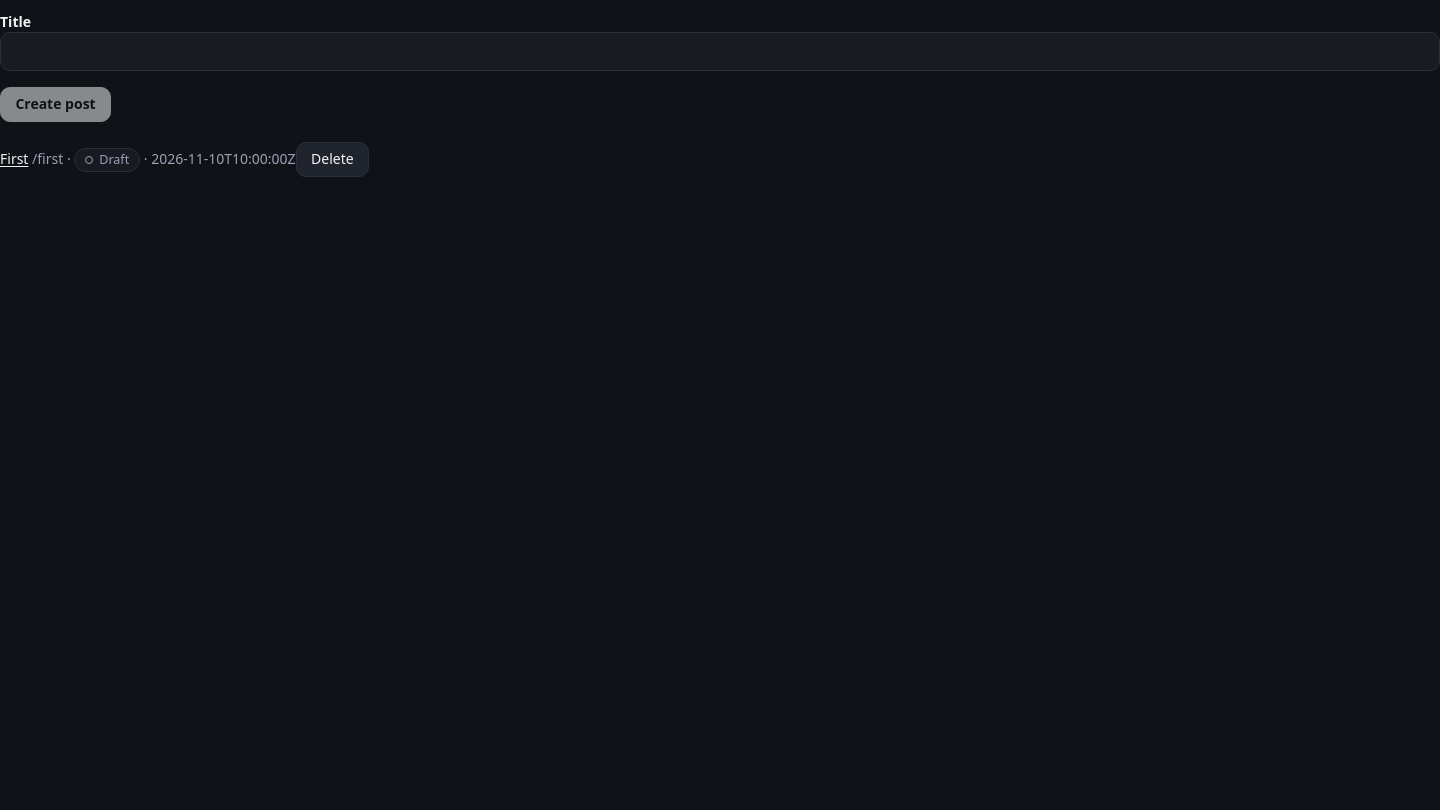
Test: Delete asks in a dialog, deletes a draft and removes its row
Click the button with aria-label "Delete First": (332,159) [296,142,369,177]
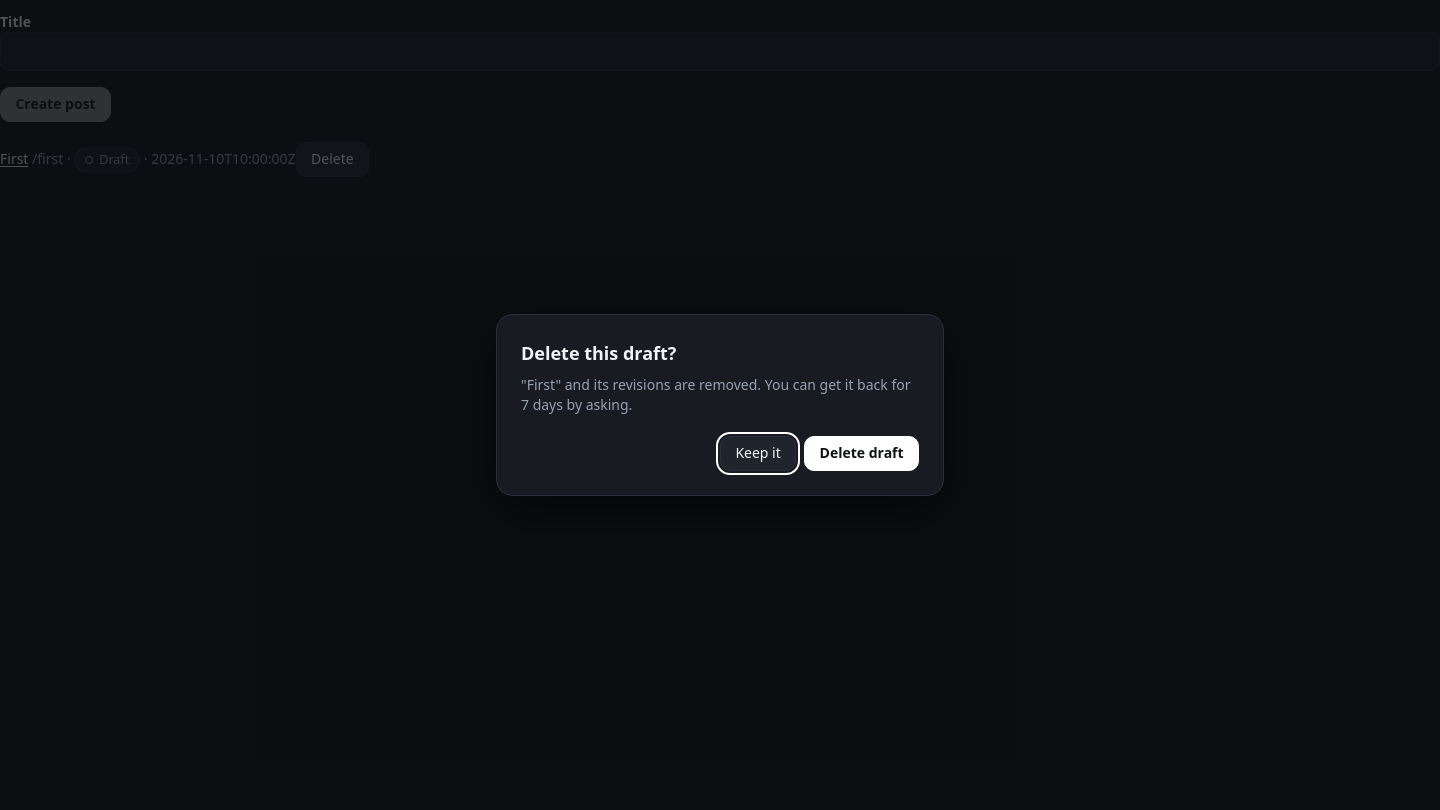
Check: the dialog "Delete this draft?" shows "\"First\" and its revisions are removed. You can get it back for 7 days by asking.", box [521,375,910,414]
Click the button "Delete draft": (862,453) [804,436,919,471]
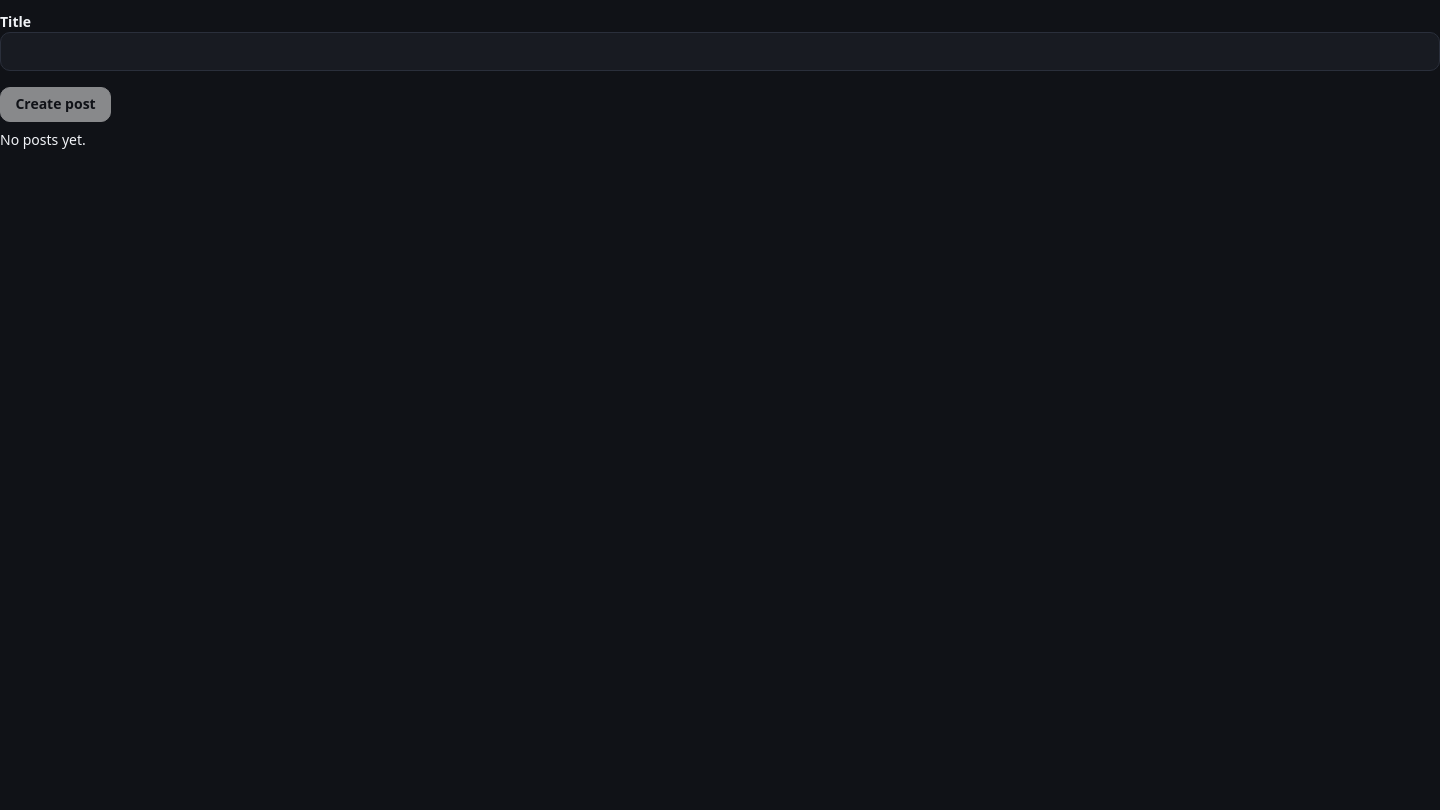
Check: the link "First" is gone
Check: the dialog is gone
